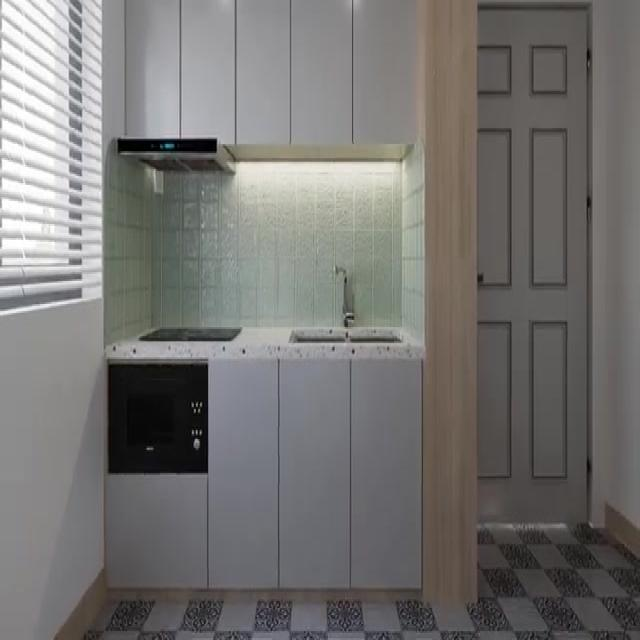door: (476, 4, 589, 526)
obstacle: (210, 361, 421, 588)
